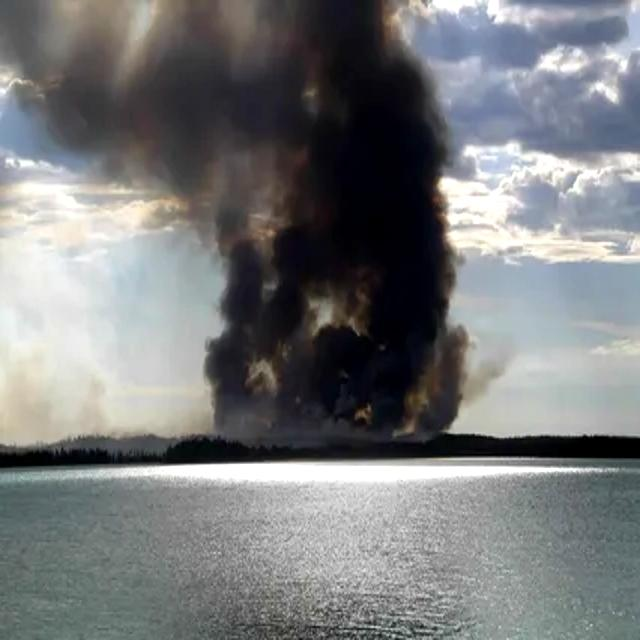no_helmet: (194, 0, 470, 436)
